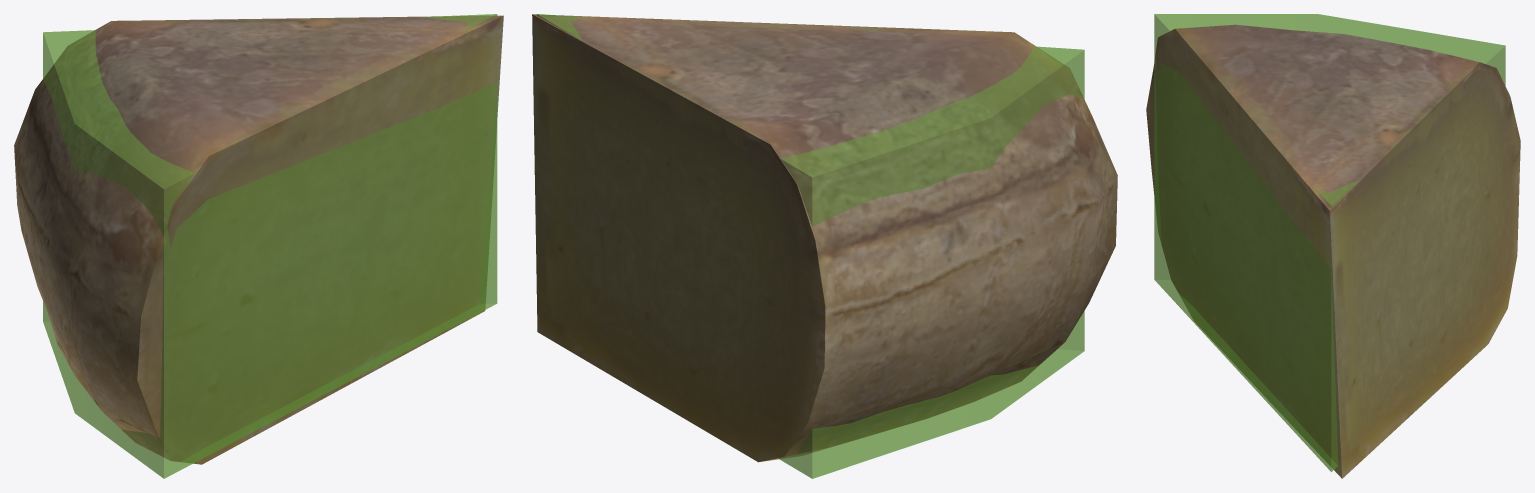
File: pg_Cheese_01.fbx
The picture shows the model from 3 angles, left to right: view 1: azimuth 30°, elevation 25°; view 2: azimuth 150°, elevation 25°; view 3: azimuth 270°, elevation 25°; orthographic projection. The views are drawn at different scales.
Visible parts, largest first — view 1: pg_Cheese_01_a_LOD0, pg_Cheese_01_a_col; view 2: pg_Cheese_01_a_LOD0, pg_Cheese_01_a_col; view 3: pg_Cheese_01_a_LOD0, pg_Cheese_01_a_col.
Boxes of the visible parts, x1,y1,x2,y2 form: pg_Cheese_01_a_LOD0: (14, 15, 503, 464); pg_Cheese_01_a_col: (43, 14, 497, 478); pg_Cheese_01_a_LOD0: (532, 14, 1117, 462); pg_Cheese_01_a_col: (537, 14, 1084, 478); pg_Cheese_01_a_LOD0: (1146, 24, 1520, 478); pg_Cheese_01_a_col: (1154, 14, 1505, 471).
Size of what is drawn, in the model's own units: 20.85 by 13.58 by 15.26.
Materials: 2 (1 with a texture image).
